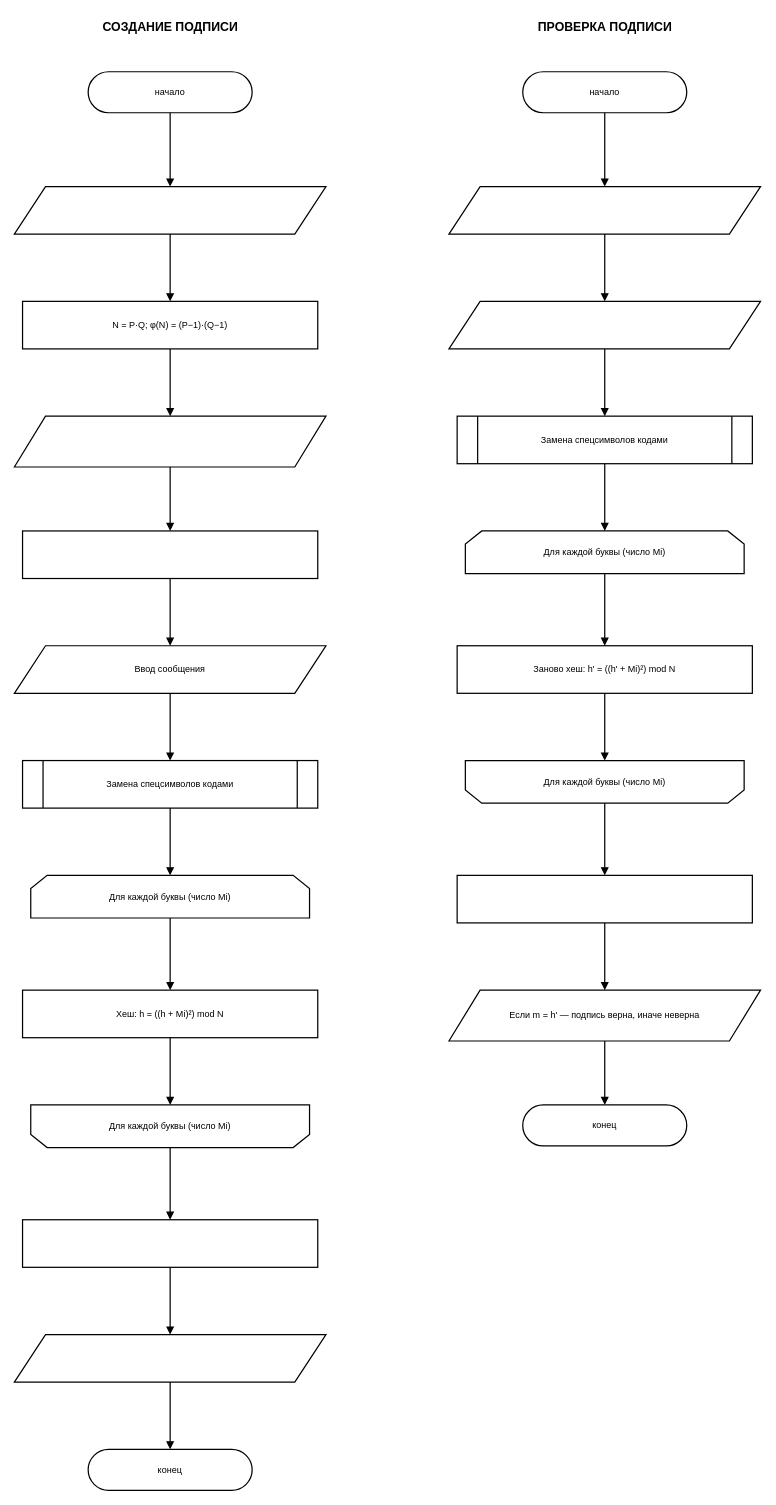
The diagram is 776 pixels wide and 1505 high, and some of its shapes have lost their labels. Each missing label, with the centre of its shape:
"Ввод открытой экспоненты E (взаимно простой с φ(N))" goes at point (169, 441).
"Ввод параметров N и открытой экспоненты E" goes at point (604, 210).
"Ввод простых чисел P и Q" goes at point (169, 210).
"Ввод сообщения и подписи S" goes at point (604, 324).
"Восстановление хеша из подписи: m = S^E mod N" goes at point (604, 898).
"Вывод сообщения и подписи S" goes at point (169, 1358).
"Подпись: S = h^D mod N" goes at point (170, 1243).
"Секретная экспонента: D = E⁻¹ mod φ(N)" goes at point (170, 554).
